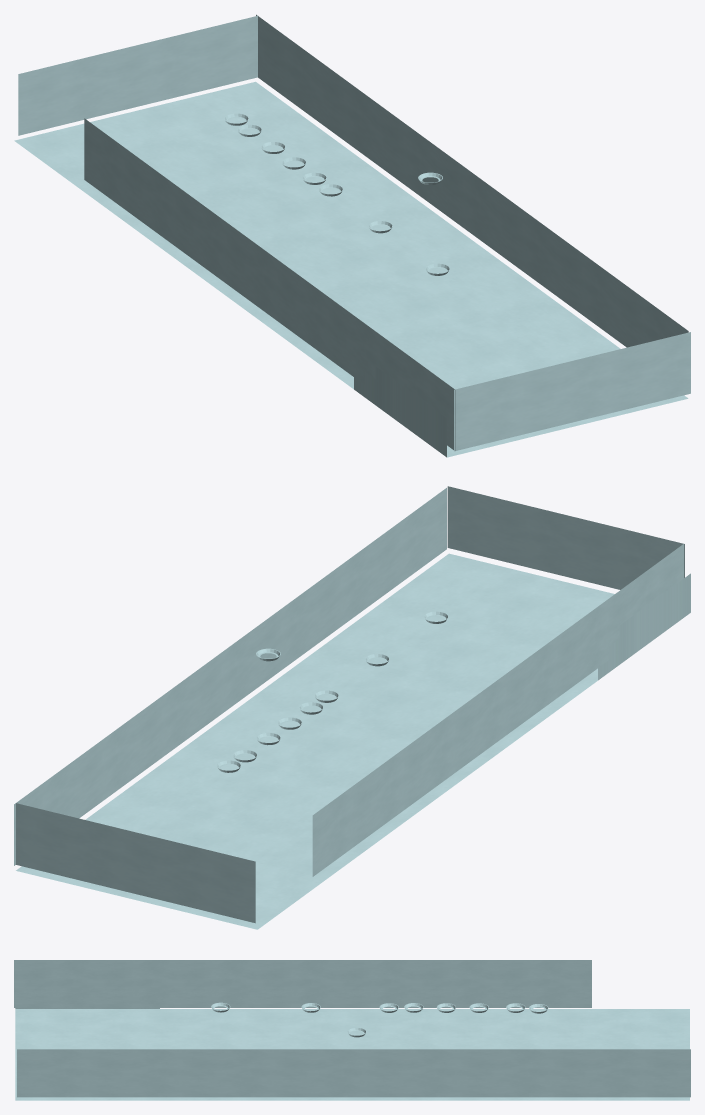
The model's file is resto_ni_teo_20.obj.
3 views of the same model, one above another, from view 1: azimuth 30°, elevation 25°; view 2: azimuth 150°, elevation 25°; view 3: azimuth 270°, elevation 25° (orthographic). The views are drawn at different scales.
Size of the model in its own units: 5.47 by 1.5 by 16.89.
